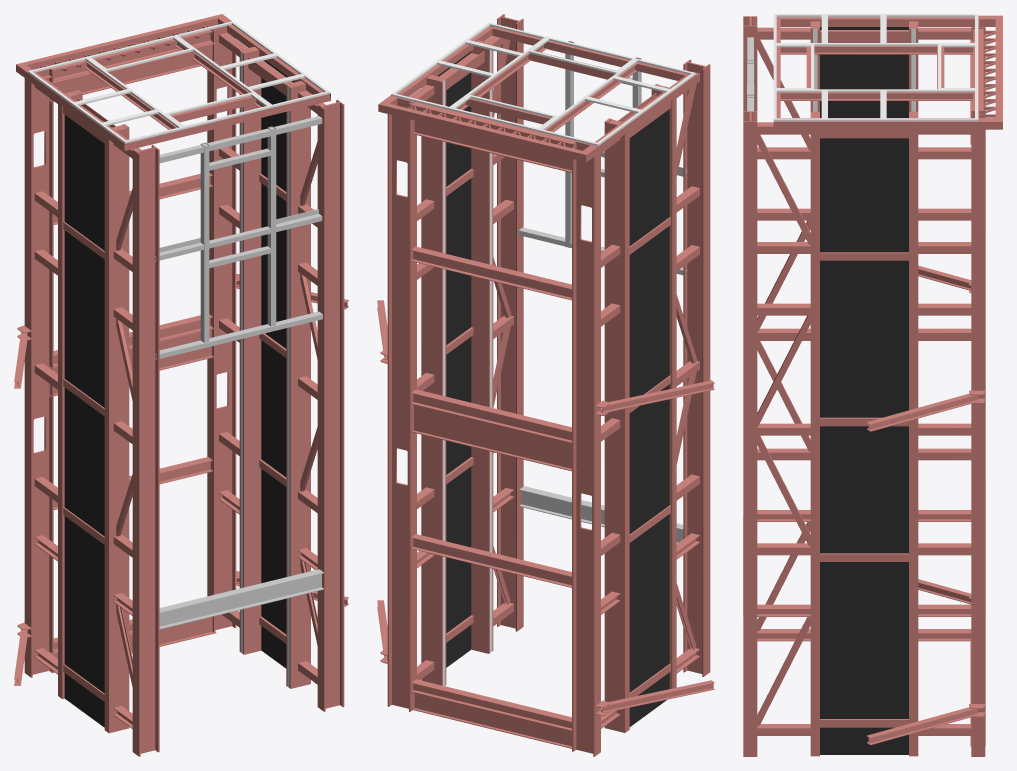
Rendered from SM_H_Building_Tide_MainShaft_06_ATLAS.fbx.
3 views of the same model, side by side, from view 1: azimuth 30°, elevation 25°; view 2: azimuth 150°, elevation 25°; view 3: azimuth 270°, elevation 25° (orthographic). The views are drawn at different scales.
Visible parts, largest first — view 1: SM_H_Building_Tide_MainShaft_06_ATLAS; view 2: SM_H_Building_Tide_MainShaft_06_ATLAS; view 3: SM_H_Building_Tide_MainShaft_06_ATLAS.
Boxes of the visible parts, x1,y1,x2,y2 form: SM_H_Building_Tide_MainShaft_06_ATLAS: (14,14,348,756); SM_H_Building_Tide_MainShaft_06_ATLAS: (377,14,714,756); SM_H_Building_Tide_MainShaft_06_ATLAS: (743,14,1002,756).
Bounding box in the file's own units: 1570 × 1001 × 2710.
